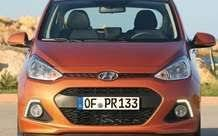license-plates: (83, 97, 140, 111)
